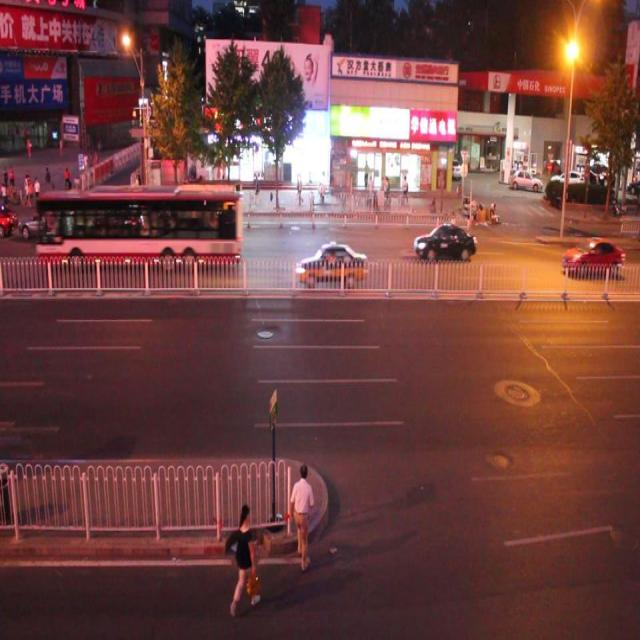bus: (153, 184, 240, 259)
car: (296, 240, 368, 286), (414, 218, 477, 262), (564, 234, 623, 277), (89, 197, 146, 238), (17, 197, 72, 238)
van: (36, 188, 242, 266)
